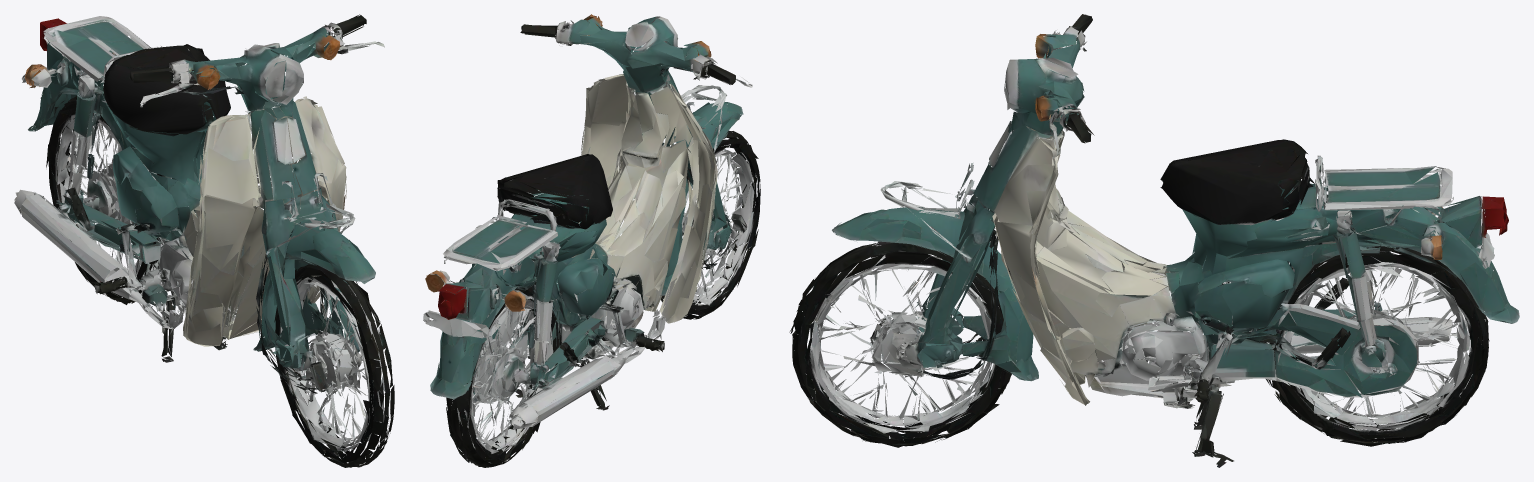
Rendered from cub.glb.
3 views of the same model, side by side, from view 1: azimuth 30°, elevation 25°; view 2: azimuth 150°, elevation 25°; view 3: azimuth 270°, elevation 25° (orthographic). The views are drawn at different scales.
Visible parts, largest first — view 1: sc1_cub_a; view 2: sc1_cub_a; view 3: sc1_cub_a.
Part boxes in pixels (bbox=[...]): sc1_cub_a: bbox=[14, 14, 394, 467]; sc1_cub_a: bbox=[423, 14, 760, 467]; sc1_cub_a: bbox=[789, 14, 1519, 467].
Size of the model in its own units: 0.7337 by 1.06 by 1.8.
1 material, 1 textured.
